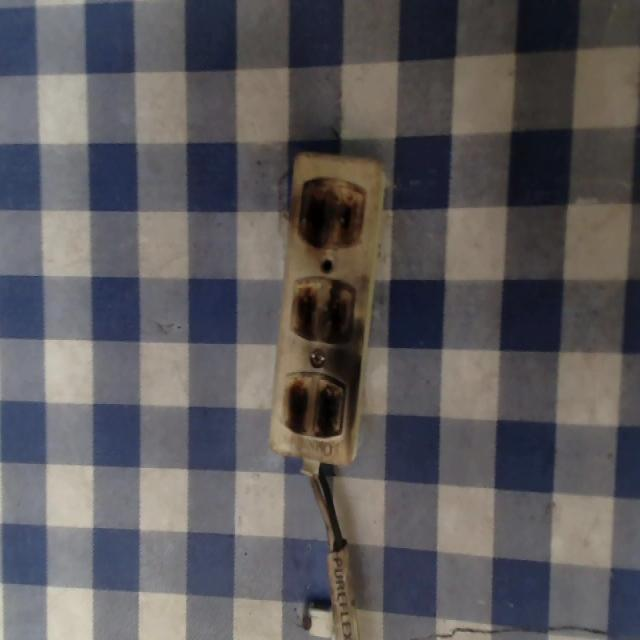-: (279, 268, 361, 351), (278, 362, 352, 447), (298, 180, 365, 252)
